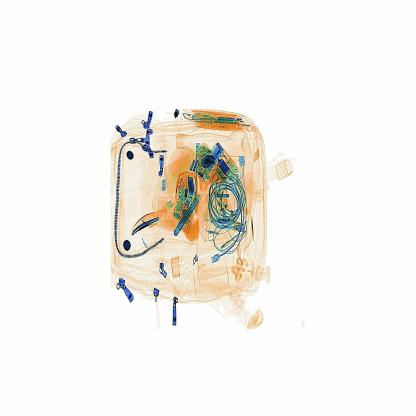pliers: (127, 200, 168, 242)
